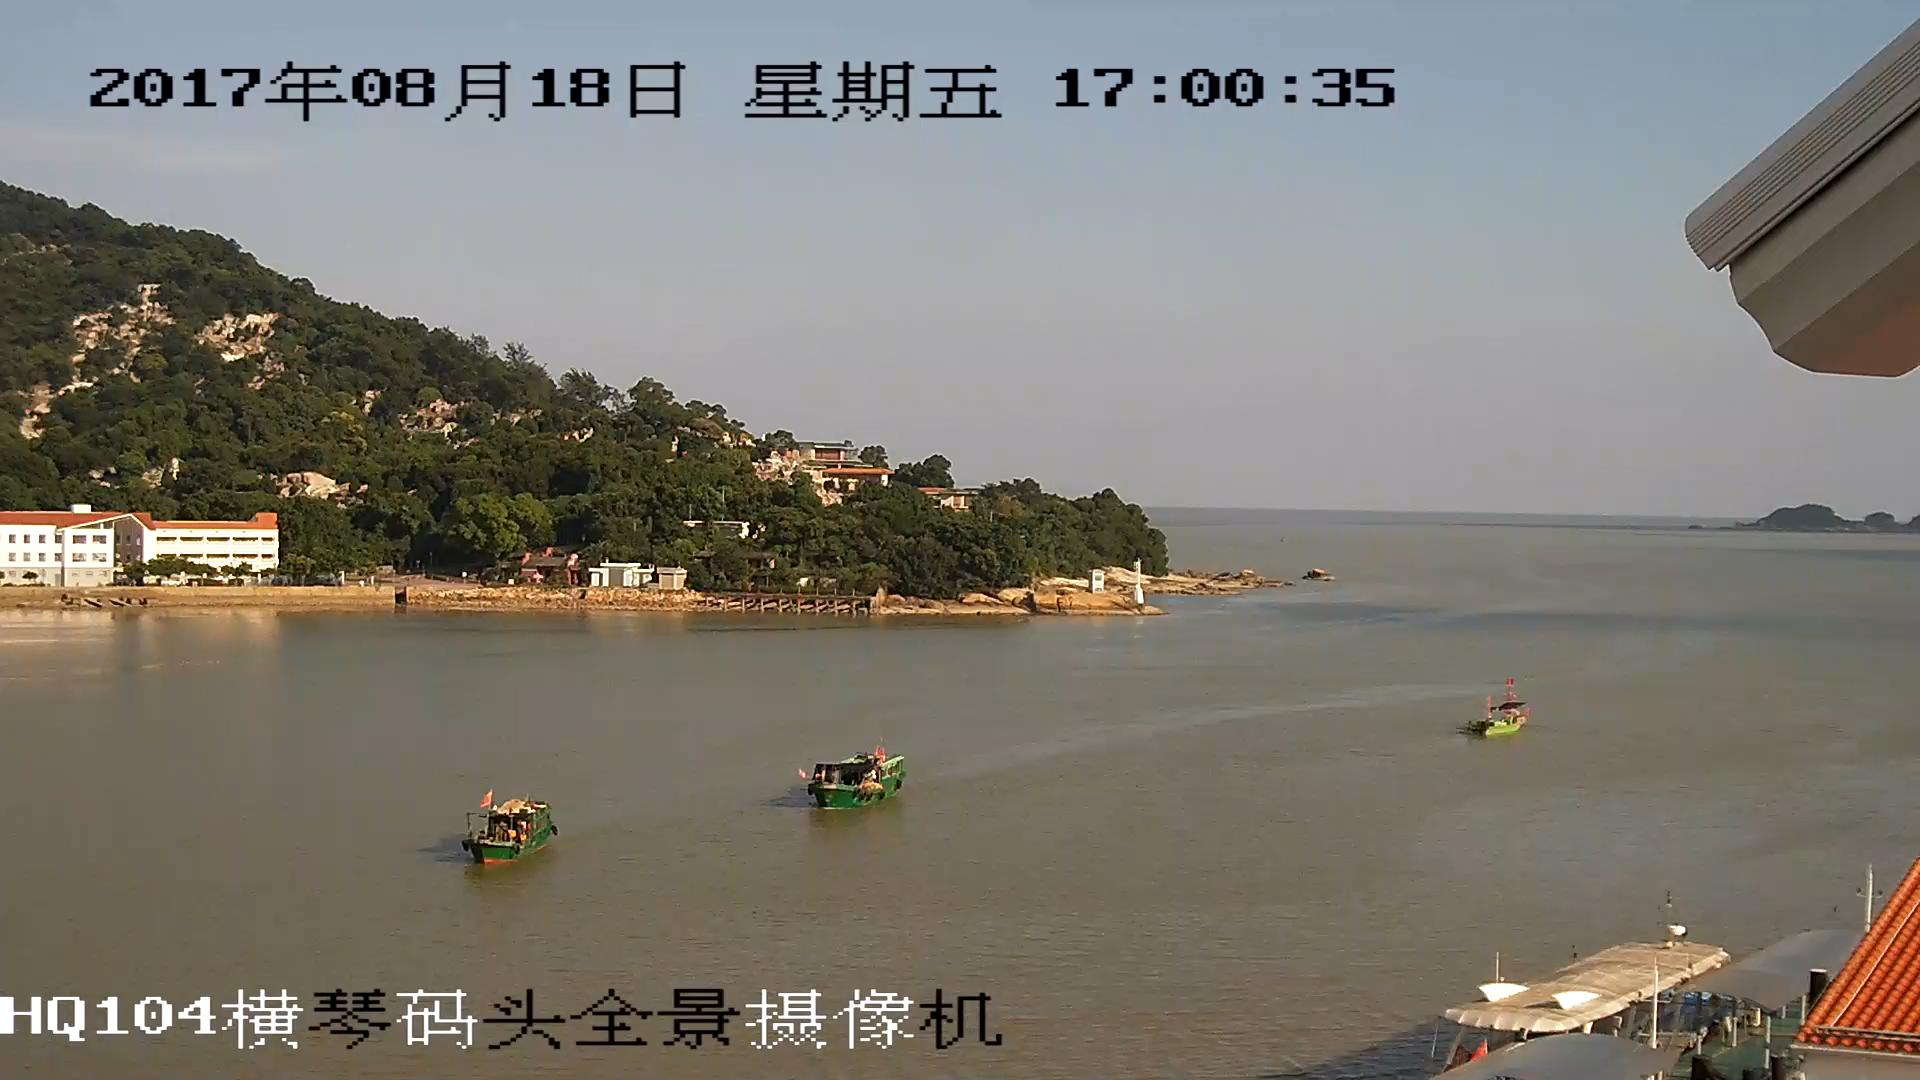fishing boat: (468, 797, 559, 861), (805, 758, 904, 802), (1472, 704, 1525, 738)
